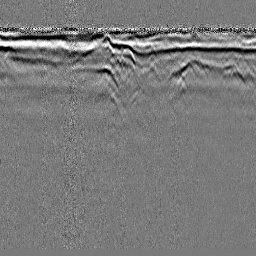cavity: (121, 45, 135, 64)
